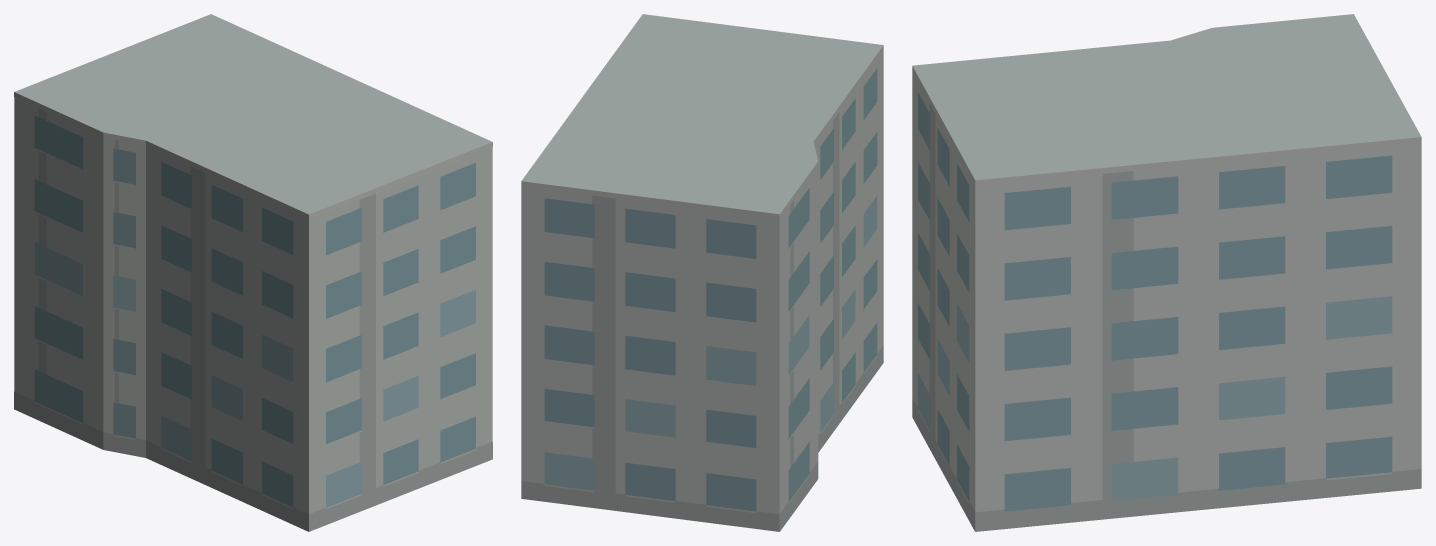
The model's file is survey-upis-32806904.glb.
3 views of the same model, side by side, from view 1: azimuth 30°, elevation 25°; view 2: azimuth 150°, elevation 25°; view 3: azimuth 270°, elevation 25° (orthographic). The views are drawn at different scales.
Visible parts, largest first — view 1: survey-upis-32806904.tmp; view 2: survey-upis-32806904.tmp; view 3: survey-upis-32806904.tmp.
Boxes of the visible parts, <box> form: survey-upis-32806904.tmp: <box>14,14,492,531</box>; survey-upis-32806904.tmp: <box>521,14,883,531</box>; survey-upis-32806904.tmp: <box>912,14,1421,531</box>.
Size of the model in its own units: 14.83 by 14.6 by 19.18.
